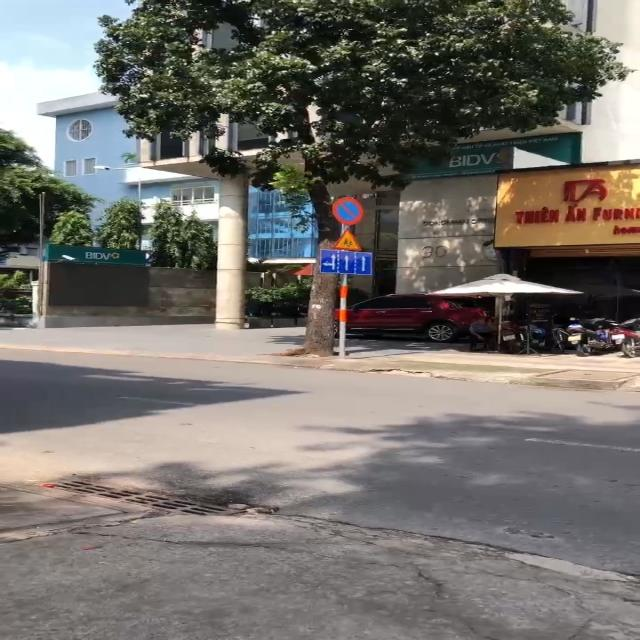Bien bao tre em: (328, 227, 365, 251)
